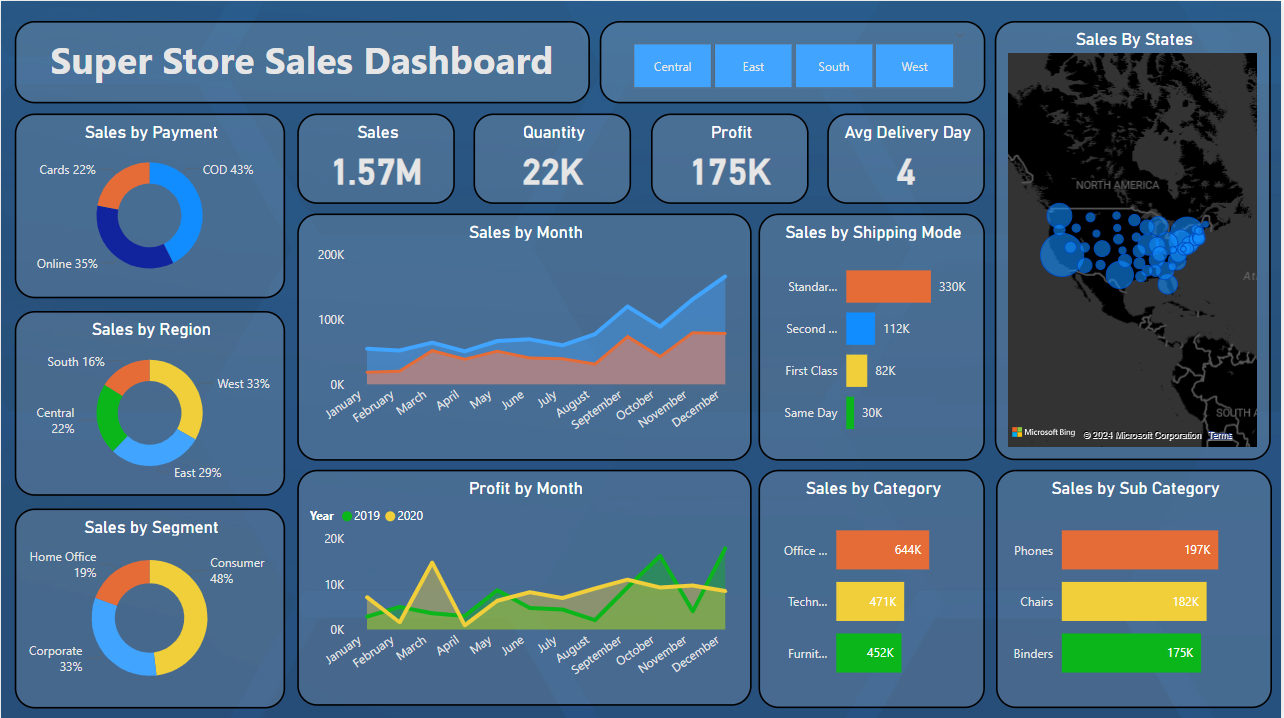

What the dashboard file says about the page in this screenshot:
{"tool":"powerbi","page":{"name":"Dashboard","canvas":[1280,720],"ordinal":0},"visuals":[{"type":"clusteredBarChart","title":"Sales by Category","fields":{"Category":["SuperStore_Sales_Dataset.Category"],"Y":["Sum(SuperStore_Sales_Dataset.Sales)"]},"box":[757.5,469.3,226.4,238.8],"z":0},{"type":"clusteredBarChart","title":"Sales by Sub Category","fields":{"Y":["Sum(SuperStore_Sales_Dataset.Sales)"],"Category":["SuperStore_Sales_Dataset.Sub-Category"]},"box":[994.9,469.3,275.8,238.8],"z":1000},{"type":"clusteredBarChart","title":"Sales by Shipping Mode","fields":{"Y":["Sum(SuperStore_Sales_Dataset.Sales)"],"Category":["SuperStore_Sales_Dataset.Ship Mode"]},"box":[757.5,212.7,226.4,247],"z":2000},{"type":"areaChart","title":"Sales by Month","fields":{"Y":["Sum(SuperStore_Sales_Dataset.Sales)"],"Category":["SuperStore_Sales_Dataset.Order Date.Variation.Date Hierarchy.Month","SuperStore_Sales_Dataset.Order Date.Variation.Date Hierarchy.Day"],"Series":["SuperStore_Sales_Dataset.Order Date.Variation.Date Hierarchy.Year"]},"box":[296.4,212.7,454.2,247],"z":3000},{"type":"areaChart","title":"Profit by Month","fields":{"Category":["SuperStore_Sales_Dataset.Order Date.Variation.Date Hierarchy.Month","SuperStore_Sales_Dataset.Order Date.Variation.Date Hierarchy.Day"],"Series":["SuperStore_Sales_Dataset.Order Date.Variation.Date Hierarchy.Year"],"Y":["Sum(SuperStore_Sales_Dataset.Profit)"]},"box":[296.4,469.3,454.2,236],"z":4000},{"type":"map","title":"Sales By States","fields":{"Category":["SuperStore_Sales_Dataset.State"],"Size":["Sum(SuperStore_Sales_Dataset.Sales)"]},"box":[993.5,20.6,275.8,439.1],"z":5000},{"type":"donutChart","title":"Sales by Segment","fields":{"Category":["SuperStore_Sales_Dataset.Segment"],"Y":["Sum(SuperStore_Sales_Dataset.Sales)"]},"box":[13.8,507.5,270,200],"z":6000},{"type":"donutChart","title":"Sales by Region","fields":{"Y":["Sum(SuperStore_Sales_Dataset.Sales)"],"Category":["SuperStore_Sales_Dataset.Region"]},"box":[13.8,310,270,185],"z":7000},{"type":"donutChart","title":"Sales by Payment","fields":{"Category":["SuperStore_Sales_Dataset.Payment Mode"],"Y":["Sum(SuperStore_Sales_Dataset.Sales)"]},"box":[13.8,112.5,270,185],"z":8000},{"type":"slicer","fields":{"Values":["SuperStore_Sales_Dataset.Region"]},"box":[598.3,20.6,385.6,82.3],"z":9000},{"type":"textbox","box":[13.7,20.6,575,82.3],"z":10000},{"type":"card","title":"Sales","fields":{"Values":["Sum(SuperStore_Sales_Dataset.Sales)"]},"box":[296.4,112.5,157.8,90.6],"z":11000},{"type":"card","title":"Quantity","fields":{"Values":["Sum(SuperStore_Sales_Dataset.Quantity)"]},"box":[472,112.5,157.8,90.6],"z":12000},{"type":"card","title":"Profit","fields":{"Values":["Sum(SuperStore_Sales_Dataset.Profit)"]},"box":[650.4,112.5,157.8,90.6],"z":13000},{"type":"card","title":"Avg Delivery Day","fields":{"Values":["Avg(SuperStore_Sales_Dataset.AvgDelivry)"]},"box":[826.1,112.5,157.8,90.6],"z":14000}]}

Visuals, with their boxes in screenshot pixels (x1, y1, x2, y2), scaled from the page's 1280x720 canvas onto the 1284x718 screenshot:
"Sales by Category" clusteredBarChart: region(760, 468, 987, 706)
"Sales by Sub Category" clusteredBarChart: region(998, 468, 1275, 706)
"Sales by Shipping Mode" clusteredBarChart: region(760, 212, 987, 458)
"Sales by Month" areaChart: region(297, 212, 753, 458)
"Profit by Month" areaChart: region(297, 468, 753, 703)
"Sales By States" map: region(997, 21, 1273, 458)
"Sales by Segment" donutChart: region(14, 506, 285, 706)
"Sales by Region" donutChart: region(14, 309, 285, 494)
"Sales by Payment" donutChart: region(14, 112, 285, 297)
slicer - SuperStore_Sales_Dataset.Region: region(600, 21, 987, 103)
textbox: region(14, 21, 591, 103)
"Sales" card: region(297, 112, 456, 203)
"Quantity" card: region(473, 112, 632, 203)
"Profit" card: region(652, 112, 811, 203)
"Avg Delivery Day" card: region(829, 112, 987, 203)
